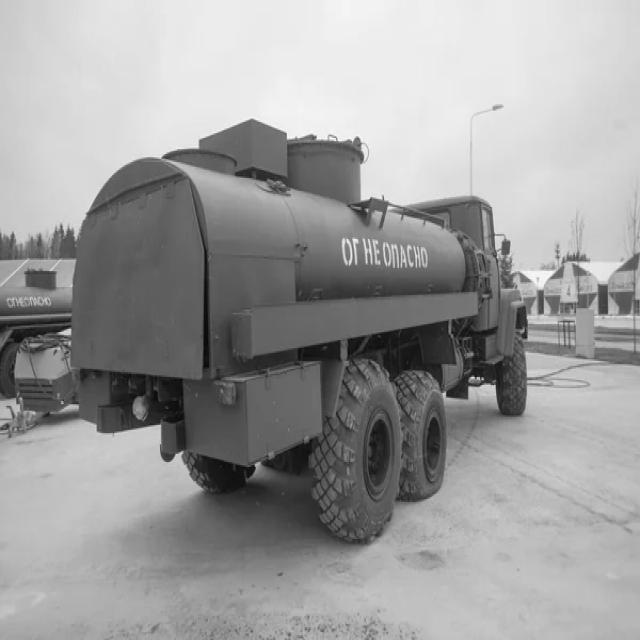Truck: (72, 120, 529, 542)
